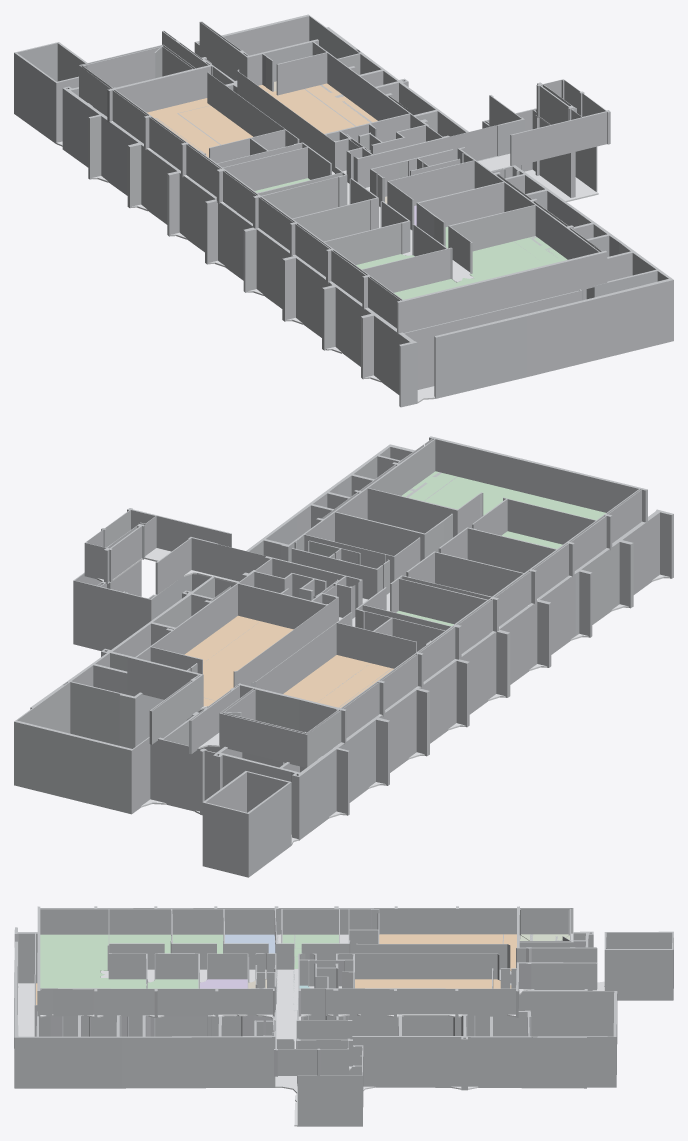
Rendered from BlocoC.glb.
3 renders of one model, top to bottom at view 1: azimuth 30°, elevation 25°; view 2: azimuth 150°, elevation 25°; view 3: azimuth 270°, elevation 25°, orthographic. The views are drawn at different scales.
Visible parts, largest first — view 1: C2 — Paredes, C0 — Paredes, C2 — Oficina de Operações Mecânicas, C2 — Oficina de Eletricidade e Instalações Elétricas, C2 — Lab. de Máquinas Elétricas, C0 — Circulação, C2 — Circulação, C2 — Lab. de Comandos Elétricos; view 2: C2 — Paredes, C0 — Paredes, C2 — Oficina de Eletricidade e Instalações Elétricas, C2 — Oficina de Operações Mecânicas, C2 — Lab. de Máquinas Elétricas, C2 — Circulação, C0 — Circulação, C2 — Lab. de Comandos Elétricos; view 3: C2 — Paredes, C0 — Paredes, C2 — Lab. de Comandos Elétricos, C2 — Circulação, C2 — Oficina de Operações Mecânicas, C0 — Circulação, C2 — Lab. de Máquinas Elétricas, C2 — Oficina de Eletricidade e Instalações Elétricas, C2 — Automação Predial, C2 — Lab. de Projetos, C2 — Treinamento Olimpíadas, C2 — Eletrônica Digital (+3 smaller).
Boxes of the visible parts, x1=… form: C2 — Paredes: x1=79, y1=21, x2=610, y2=334; C0 — Paredes: x1=14, y1=14, x2=673, y2=407; C2 — Oficina de Operações Mecânicas: x1=147, y1=98, x2=252, y2=157; C2 — Oficina de Eletricidade e Instalações Elétricas: x1=258, y1=83, x2=377, y2=133; C2 — Lab. de Máquinas Elétricas: x1=460, y1=236, x2=567, y2=284; C0 — Circulação: x1=56, y1=141, x2=598, y2=402; C2 — Circulação: x1=112, y1=116, x2=550, y2=329; C2 — Lab. de Comandos Elétricos: x1=394, y1=279, x2=464, y2=299; C2 — Paredes: x1=84, y1=436, x2=647, y2=767; C0 — Paredes: x1=14, y1=444, x2=673, y2=877; C2 — Oficina de Eletricidade e Instalações Elétricas: x1=184, y1=615, x2=293, y2=706; C2 — Oficina de Operações Mecânicas: x1=283, y1=655, x2=393, y2=707; C2 — Lab. de Máquinas Elétricas: x1=401, y1=471, x2=541, y2=515; C2 — Circulação: x1=97, y1=522, x2=645, y2=748; C0 — Circulação: x1=141, y1=574, x2=669, y2=844; C2 — Lab. de Comandos Elétricos: x1=533, y1=497, x2=605, y2=520; C2 — Paredes: x1=37, y1=906, x2=597, y2=1076; C0 — Paredes: x1=14, y1=927, x2=673, y2=1126; C2 — Lab. de Comandos Elétricos: x1=40, y1=934, x2=108, y2=972; C2 — Circulação: x1=40, y1=933, x2=572, y2=1070; C2 — Oficina de Operações Mecânicas: x1=379, y1=934, x2=516, y2=970; C0 — Circulação: x1=18, y1=981, x2=604, y2=1126; C2 — Lab. de Máquinas Elétricas: x1=40, y1=972, x2=146, y2=988; C2 — Oficina de Eletricidade e Instalações Elétricas: x1=355, y1=979, x2=511, y2=988; C2 — Automação Predial: x1=282, y1=934, x2=338, y2=968; C2 — Lab. de Projetos: x1=109, y1=934, x2=171, y2=953; C2 — Treinamento Olimpíadas: x1=225, y1=934, x2=275, y2=953; C2 — Eletrônica Digital: x1=172, y1=934, x2=223, y2=953.
Size of the model in its own units: 329 by 78.7 by 618.
